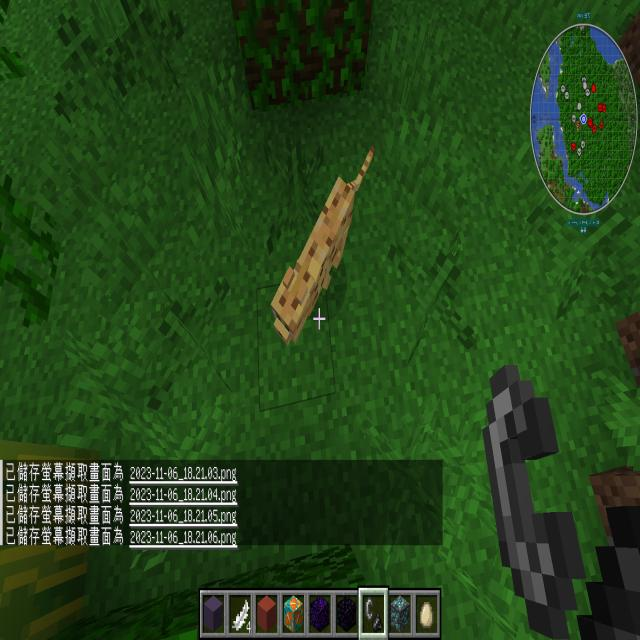Ocelot: (266, 136, 382, 353)
